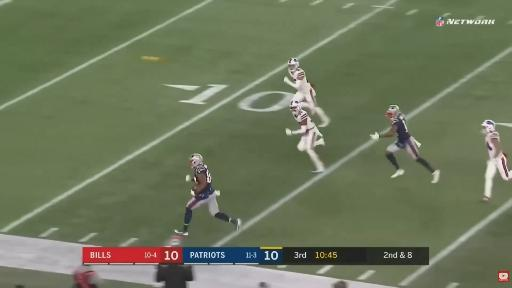Helmet: (482, 120, 495, 133), (190, 154, 202, 167), (387, 105, 399, 118), (290, 100, 301, 113), (288, 58, 298, 72)
Jersey: (194, 165, 214, 199), (289, 68, 311, 94), (392, 114, 410, 143), (293, 110, 315, 131), (486, 132, 499, 158)
Player: (175, 154, 241, 235), (371, 105, 439, 183), (284, 58, 330, 126), (286, 101, 324, 173), (482, 120, 511, 201)
